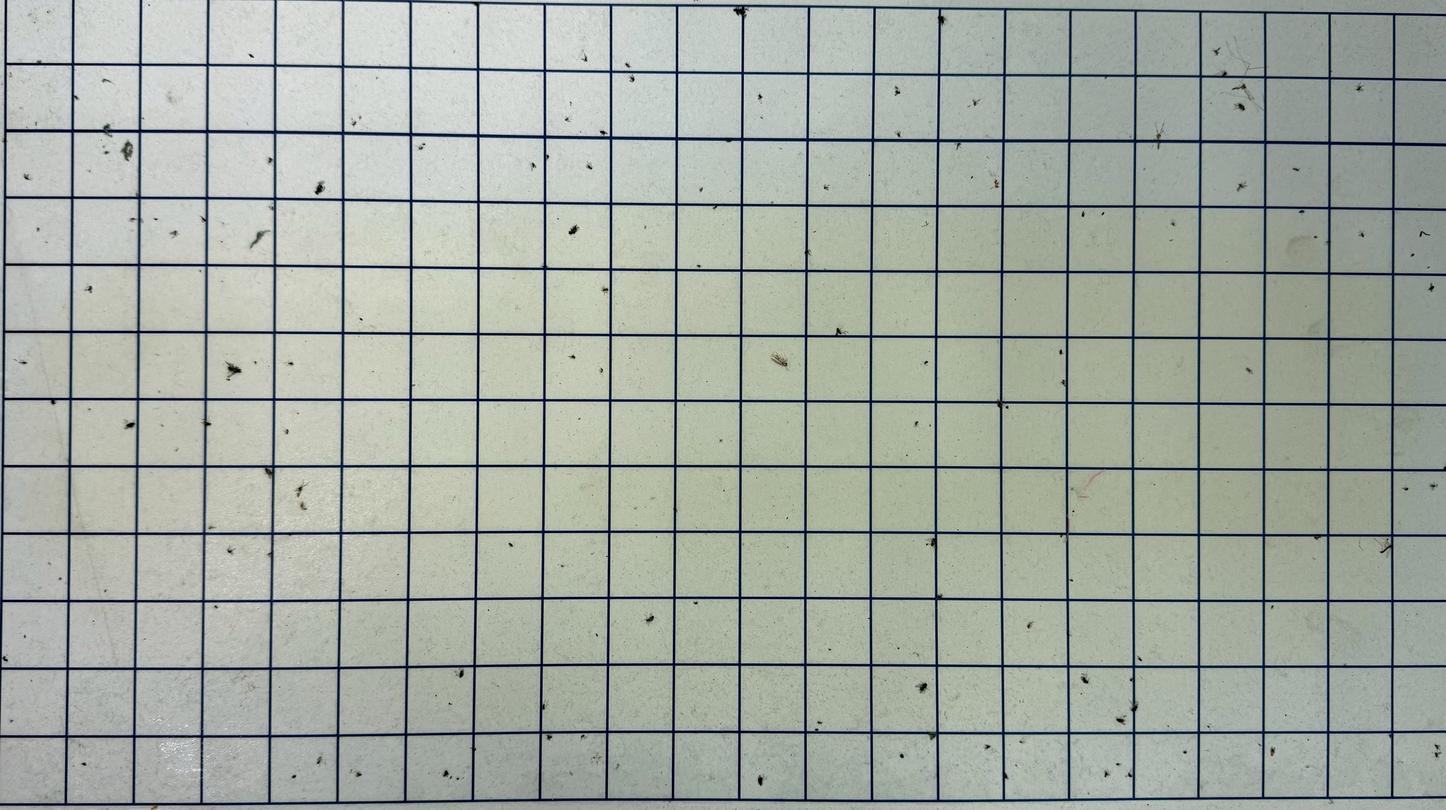test: (769, 347, 787, 368), (224, 360, 244, 377), (1380, 539, 1396, 557), (123, 140, 137, 160), (1153, 125, 1163, 152), (314, 182, 331, 197), (913, 682, 930, 695), (1231, 81, 1249, 92), (264, 462, 276, 478), (1080, 672, 1092, 687), (642, 613, 658, 624), (1214, 68, 1230, 79), (1232, 100, 1248, 111), (102, 122, 114, 136), (732, 7, 750, 16), (569, 221, 579, 236), (1311, 532, 1326, 542), (296, 500, 308, 512), (1236, 181, 1248, 192), (936, 15, 948, 26), (296, 483, 306, 496), (124, 420, 138, 429), (998, 397, 1007, 411), (1117, 715, 1128, 726), (265, 156, 275, 168), (313, 754, 325, 764), (926, 538, 939, 547), (129, 216, 145, 223), (21, 172, 32, 182), (82, 284, 94, 293), (199, 418, 211, 427), (834, 326, 846, 335), (993, 176, 1000, 191), (596, 366, 606, 376), (49, 396, 58, 407), (0, 654, 11, 663), (1356, 83, 1365, 94), (927, 730, 936, 741), (102, 75, 114, 83), (540, 701, 548, 713), (1129, 697, 1137, 709), (1025, 619, 1032, 632), (19, 359, 29, 368), (457, 669, 466, 679), (969, 97, 978, 107), (1125, 768, 1134, 778), (170, 228, 178, 239), (892, 130, 903, 138), (443, 766, 450, 778), (529, 160, 538, 169), (601, 286, 610, 295), (568, 353, 577, 362), (756, 775, 765, 784), (226, 545, 234, 555), (79, 759, 89, 767), (892, 88, 902, 96), (955, 142, 963, 152), (1247, 366, 1255, 376), (1101, 770, 1111, 778), (726, 136, 734, 146), (207, 523, 217, 531), (582, 52, 588, 65), (1428, 482, 1439, 489), (201, 215, 209, 224), (417, 143, 425, 152), (585, 162, 593, 171), (1359, 230, 1368, 238), (984, 743, 992, 752), (564, 115, 572, 124), (470, 745, 479, 753), (285, 360, 295, 367), (757, 91, 764, 101), (1401, 485, 1411, 492), (1271, 746, 1277, 757), (628, 75, 636, 83), (247, 52, 255, 60), (35, 58, 43, 66), (898, 752, 906, 760), (541, 264, 549, 272), (1001, 772, 1009, 780), (598, 128, 607, 135), (506, 541, 515, 548), (546, 734, 553, 743), (804, 246, 811, 255), (1079, 209, 1086, 218), (1293, 165, 1302, 172), (816, 719, 825, 726), (1434, 741, 1441, 750), (544, 152, 551, 161), (351, 118, 357, 128), (270, 204, 277, 212), (1169, 220, 1177, 227), (267, 550, 274, 558), (102, 587, 109, 595), (56, 575, 64, 582), (446, 700, 454, 707), (1212, 49, 1221, 55), (923, 358, 929, 367), (936, 593, 941, 603), (34, 119, 39, 129), (103, 149, 110, 156), (213, 604, 220, 611), (579, 733, 586, 740), (291, 773, 298, 780), (1128, 677, 1135, 684), (1181, 748, 1188, 755), (1018, 739, 1025, 746), (1068, 577, 1075, 584), (1386, 733, 1393, 740), (1298, 208, 1306, 214), (35, 225, 41, 233), (692, 600, 700, 606), (3, 137, 9, 145), (1136, 656, 1144, 662), (285, 428, 290, 437), (821, 184, 830, 189), (624, 61, 630, 68), (358, 317, 364, 324), (152, 217, 159, 223), (698, 187, 704, 194), (718, 437, 724, 444), (9, 718, 15, 725), (160, 422, 166, 429), (559, 563, 566, 569), (1269, 604, 1276, 610), (355, 771, 360, 779), (1057, 347, 1062, 355), (1062, 377, 1066, 387), (75, 93, 79, 102), (197, 268, 203, 274), (696, 263, 702, 269), (1313, 234, 1319, 240), (1410, 252, 1416, 258), (1425, 264, 1431, 270), (1100, 211, 1106, 217), (969, 174, 975, 180), (1115, 761, 1121, 767), (1429, 285, 1434, 292), (253, 359, 258, 366), (814, 727, 821, 732), (914, 419, 918, 427), (1432, 753, 1440, 757), (711, 203, 717, 208), (87, 407, 92, 413), (147, 2, 152, 8), (22, 633, 27, 639), (295, 411, 300, 416), (769, 200, 774, 205), (220, 239, 225, 244), (643, 224, 647, 230), (595, 632, 599, 638)
